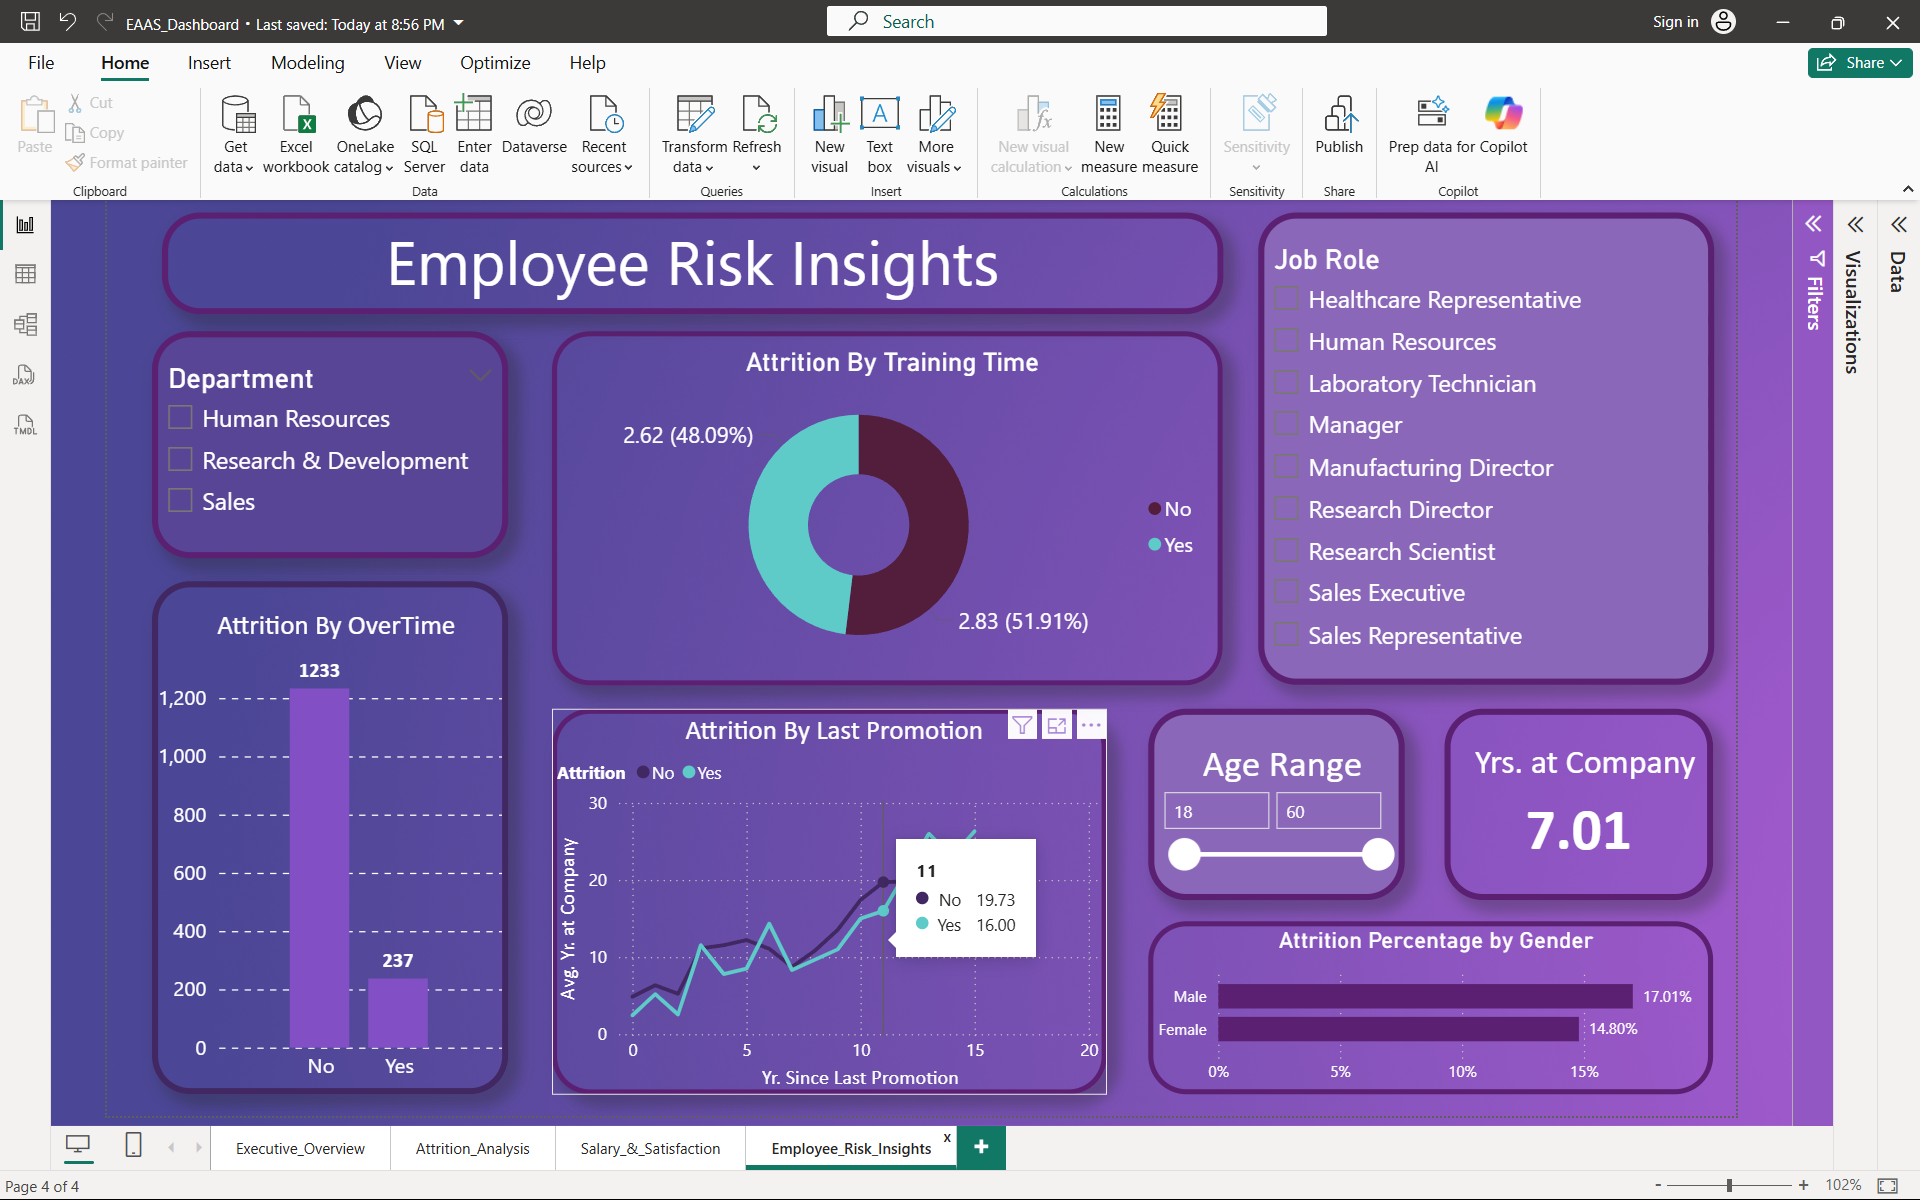

The dashboard page shown, as its layout file describes it:
{"tool":"powerbi","page":{"name":"Employee_Risk_Insights","canvas":[1280,720],"ordinal":3},"visuals":[{"type":"columnChart","title":"Attrition By OverTime","fields":{"Category":["cleaned_attrition.Attrition"],"Y":["CountNonNull(cleaned_attrition.OverTime)"]},"box":[35.7,300.1,280.1,402.9],"z":0},{"type":"card","title":"Yrs. at Company","fields":{"Values":["Avg(cleaned_attrition.YearsAtCompany)"]},"box":[1051.7,400.1,211.5,150],"z":1000},{"type":"lineChart","title":"Attrition By Last Promotion","fields":{"Y":["Avg(cleaned_attrition.YearsAtCompany)"],"Category":["cleaned_attrition.YearsSinceLastPromotion"],"Series":["cleaned_attrition.Attrition"]},"box":[350.1,400.1,435.8,302.9],"z":2000},{"type":"pieChart","title":"Attrition By Training Time","fields":{"Y":["Avg(cleaned_attrition.TrainingTimesLastYear)"],"Category":["cleaned_attrition.Attrition"]},"box":[350.1,102.9,527.3,278.6],"z":3000},{"type":"slicer","title":"Age Range","fields":{"Values":["cleaned_attrition.Age"]},"box":[818.8,400.1,201.5,150],"z":4000},{"type":"slicer","fields":{"Values":["cleaned_attrition.Department"]},"box":[35.7,102.9,280.1,178.6],"z":5000},{"type":"slicer","fields":{"Values":["cleaned_attrition.JobRole"]},"box":[904.5,10,358.7,371.5],"z":6000},{"type":"clusteredBarChart","title":"Attrition Percentage by Gender","fields":{"Y":["cleaned_attrition.Atrr_Per"],"Category":["cleaned_attrition.Gender"]},"box":[818.8,567.3,444.4,135.7],"z":7000},{"type":"textbox","box":[42.9,10,834.5,80],"z":7001}]}

Visuals, with their boxes on the page's 1280x720 design canvas (x1, y1, x2, y2). These are canvas units, not pixel positions in the 1920x1200 screenshot, which may show the page scaled, cropped or inside an application window:
"Attrition By OverTime" columnChart: crop(36, 300, 316, 703)
"Yrs. at Company" card: crop(1052, 400, 1263, 550)
"Attrition By Last Promotion" lineChart: crop(350, 400, 786, 703)
"Attrition By Training Time" pieChart: crop(350, 103, 877, 382)
"Age Range" slicer: crop(819, 400, 1020, 550)
slicer - cleaned_attrition.Department: crop(36, 103, 316, 282)
slicer - cleaned_attrition.JobRole: crop(904, 10, 1263, 382)
"Attrition Percentage by Gender" clusteredBarChart: crop(819, 567, 1263, 703)
textbox: crop(43, 10, 877, 90)
